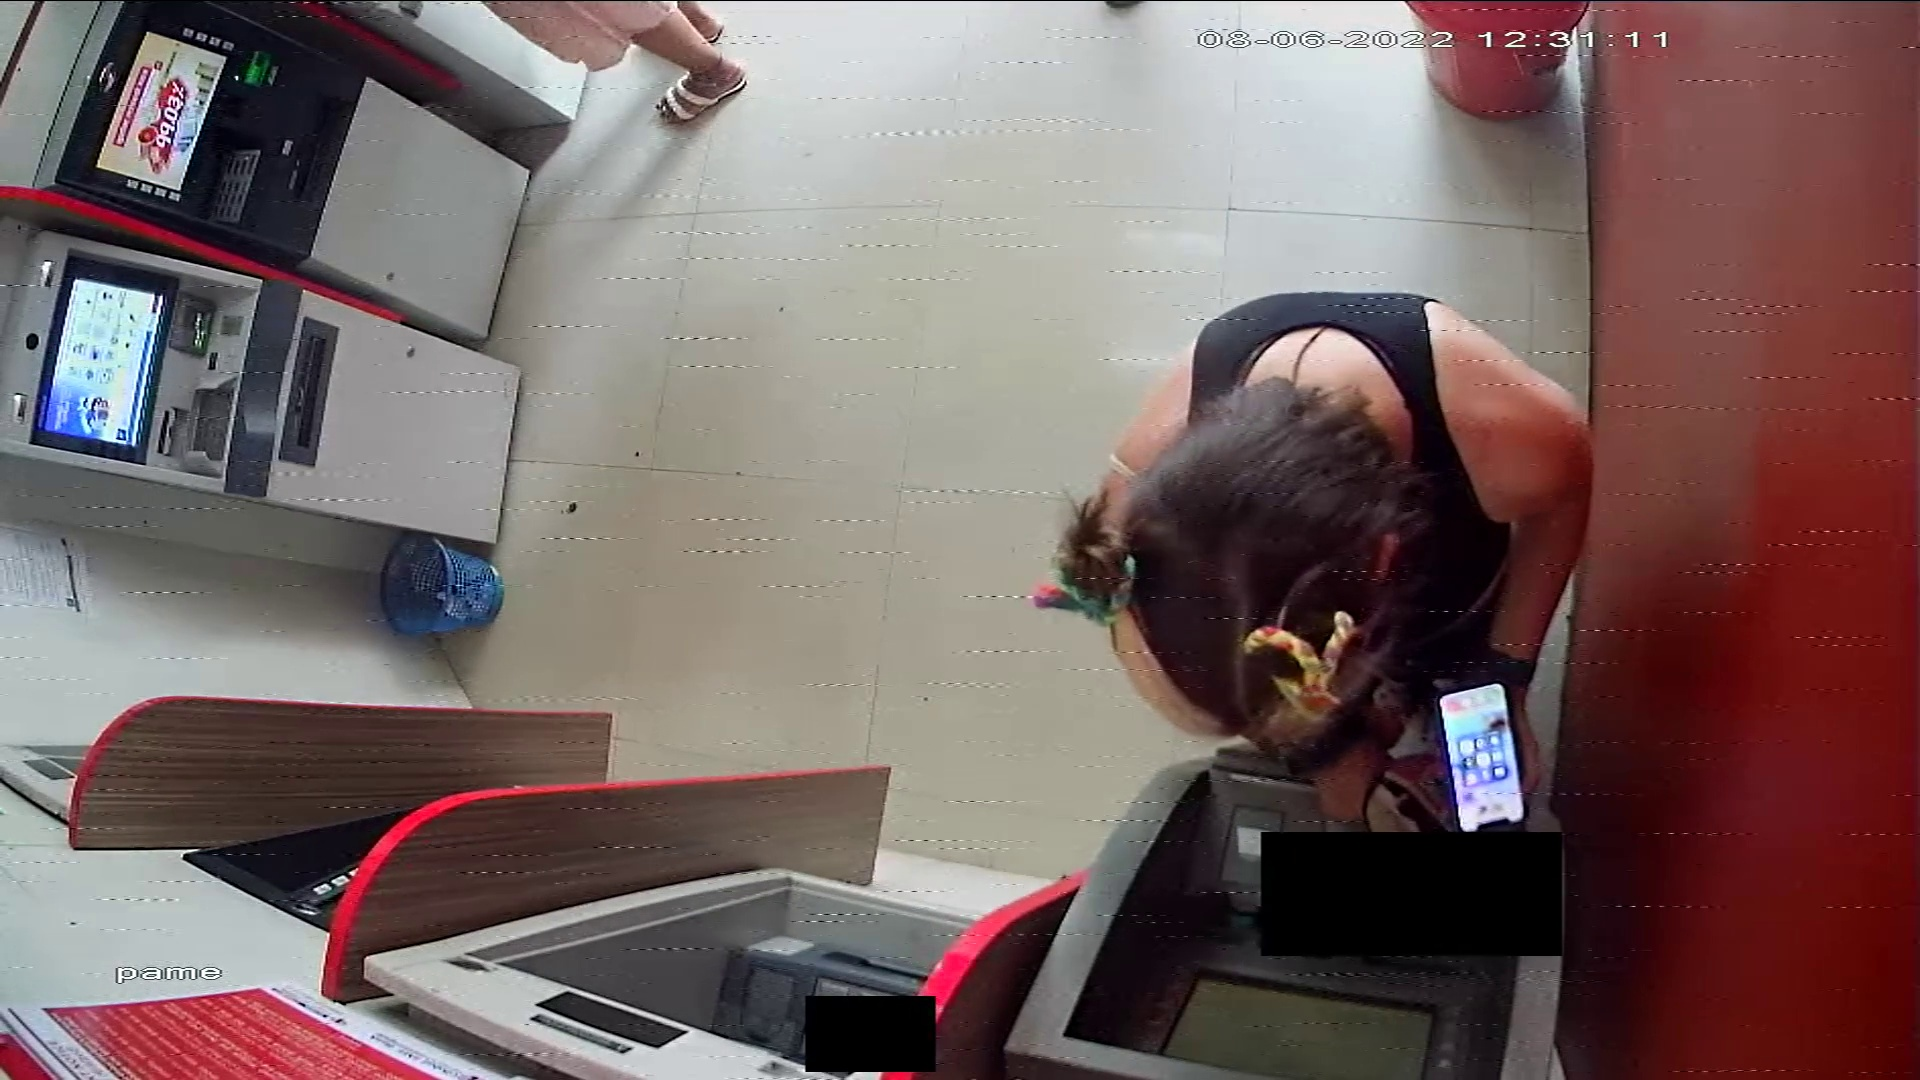person: (1093, 293, 1593, 830)
phone: (1437, 683, 1525, 832)
